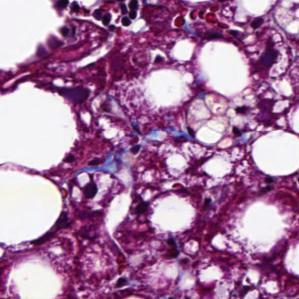inflammation: (62, 167, 125, 215), (244, 26, 294, 84), (69, 0, 146, 35), (221, 101, 257, 142), (150, 232, 185, 259)
